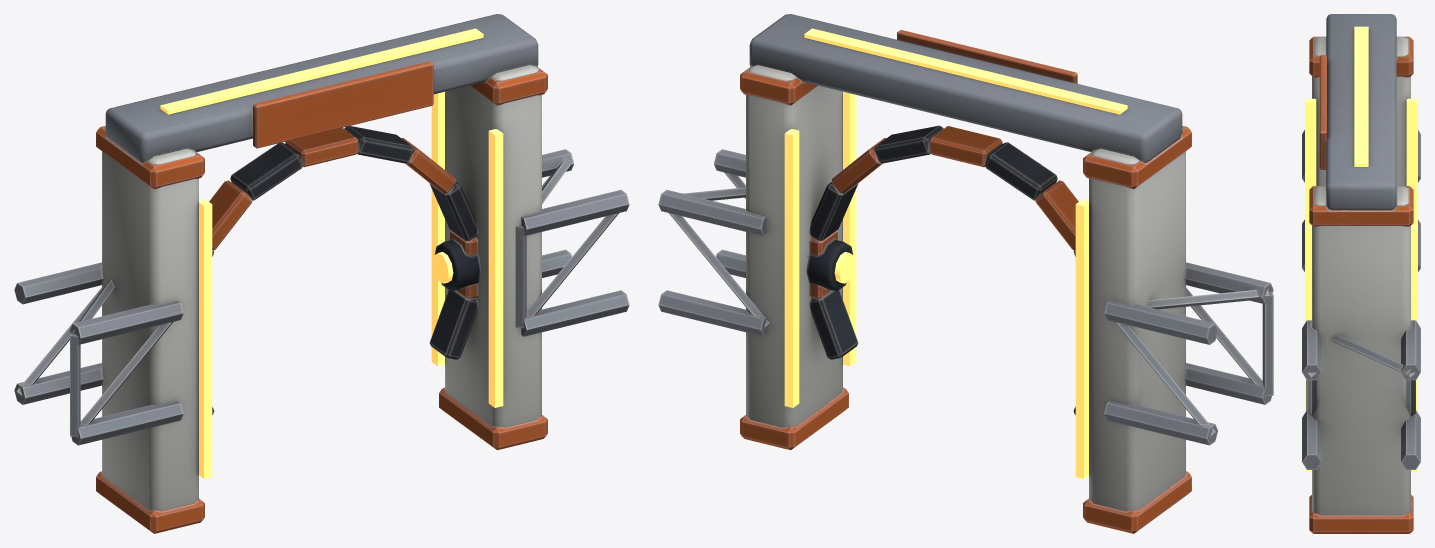
File: parker_gate.glb
3 views of the same model, side by side, from view 1: azimuth 30°, elevation 25°; view 2: azimuth 150°, elevation 25°; view 3: azimuth 270°, elevation 25° (orthographic). The views are drawn at different scales.
Visible parts, largest first — view 1: parker_gate, parker_gate_glow; view 2: parker_gate, parker_gate_glow; view 3: parker_gate, parker_gate_glow.
Part boxes in pixels (box(x1,y1,x2,y2)): parker_gate: box(14, 14, 629, 533); parker_gate_glow: box(154, 28, 503, 478); parker_gate: box(658, 14, 1273, 533); parker_gate_glow: box(784, 28, 1127, 478); parker_gate: box(1302, 14, 1420, 533); parker_gate_glow: box(1305, 26, 1417, 471).
Size of the model in its own units: 4.06 by 2.8 by 0.84.
2 materials, 1 textured.
